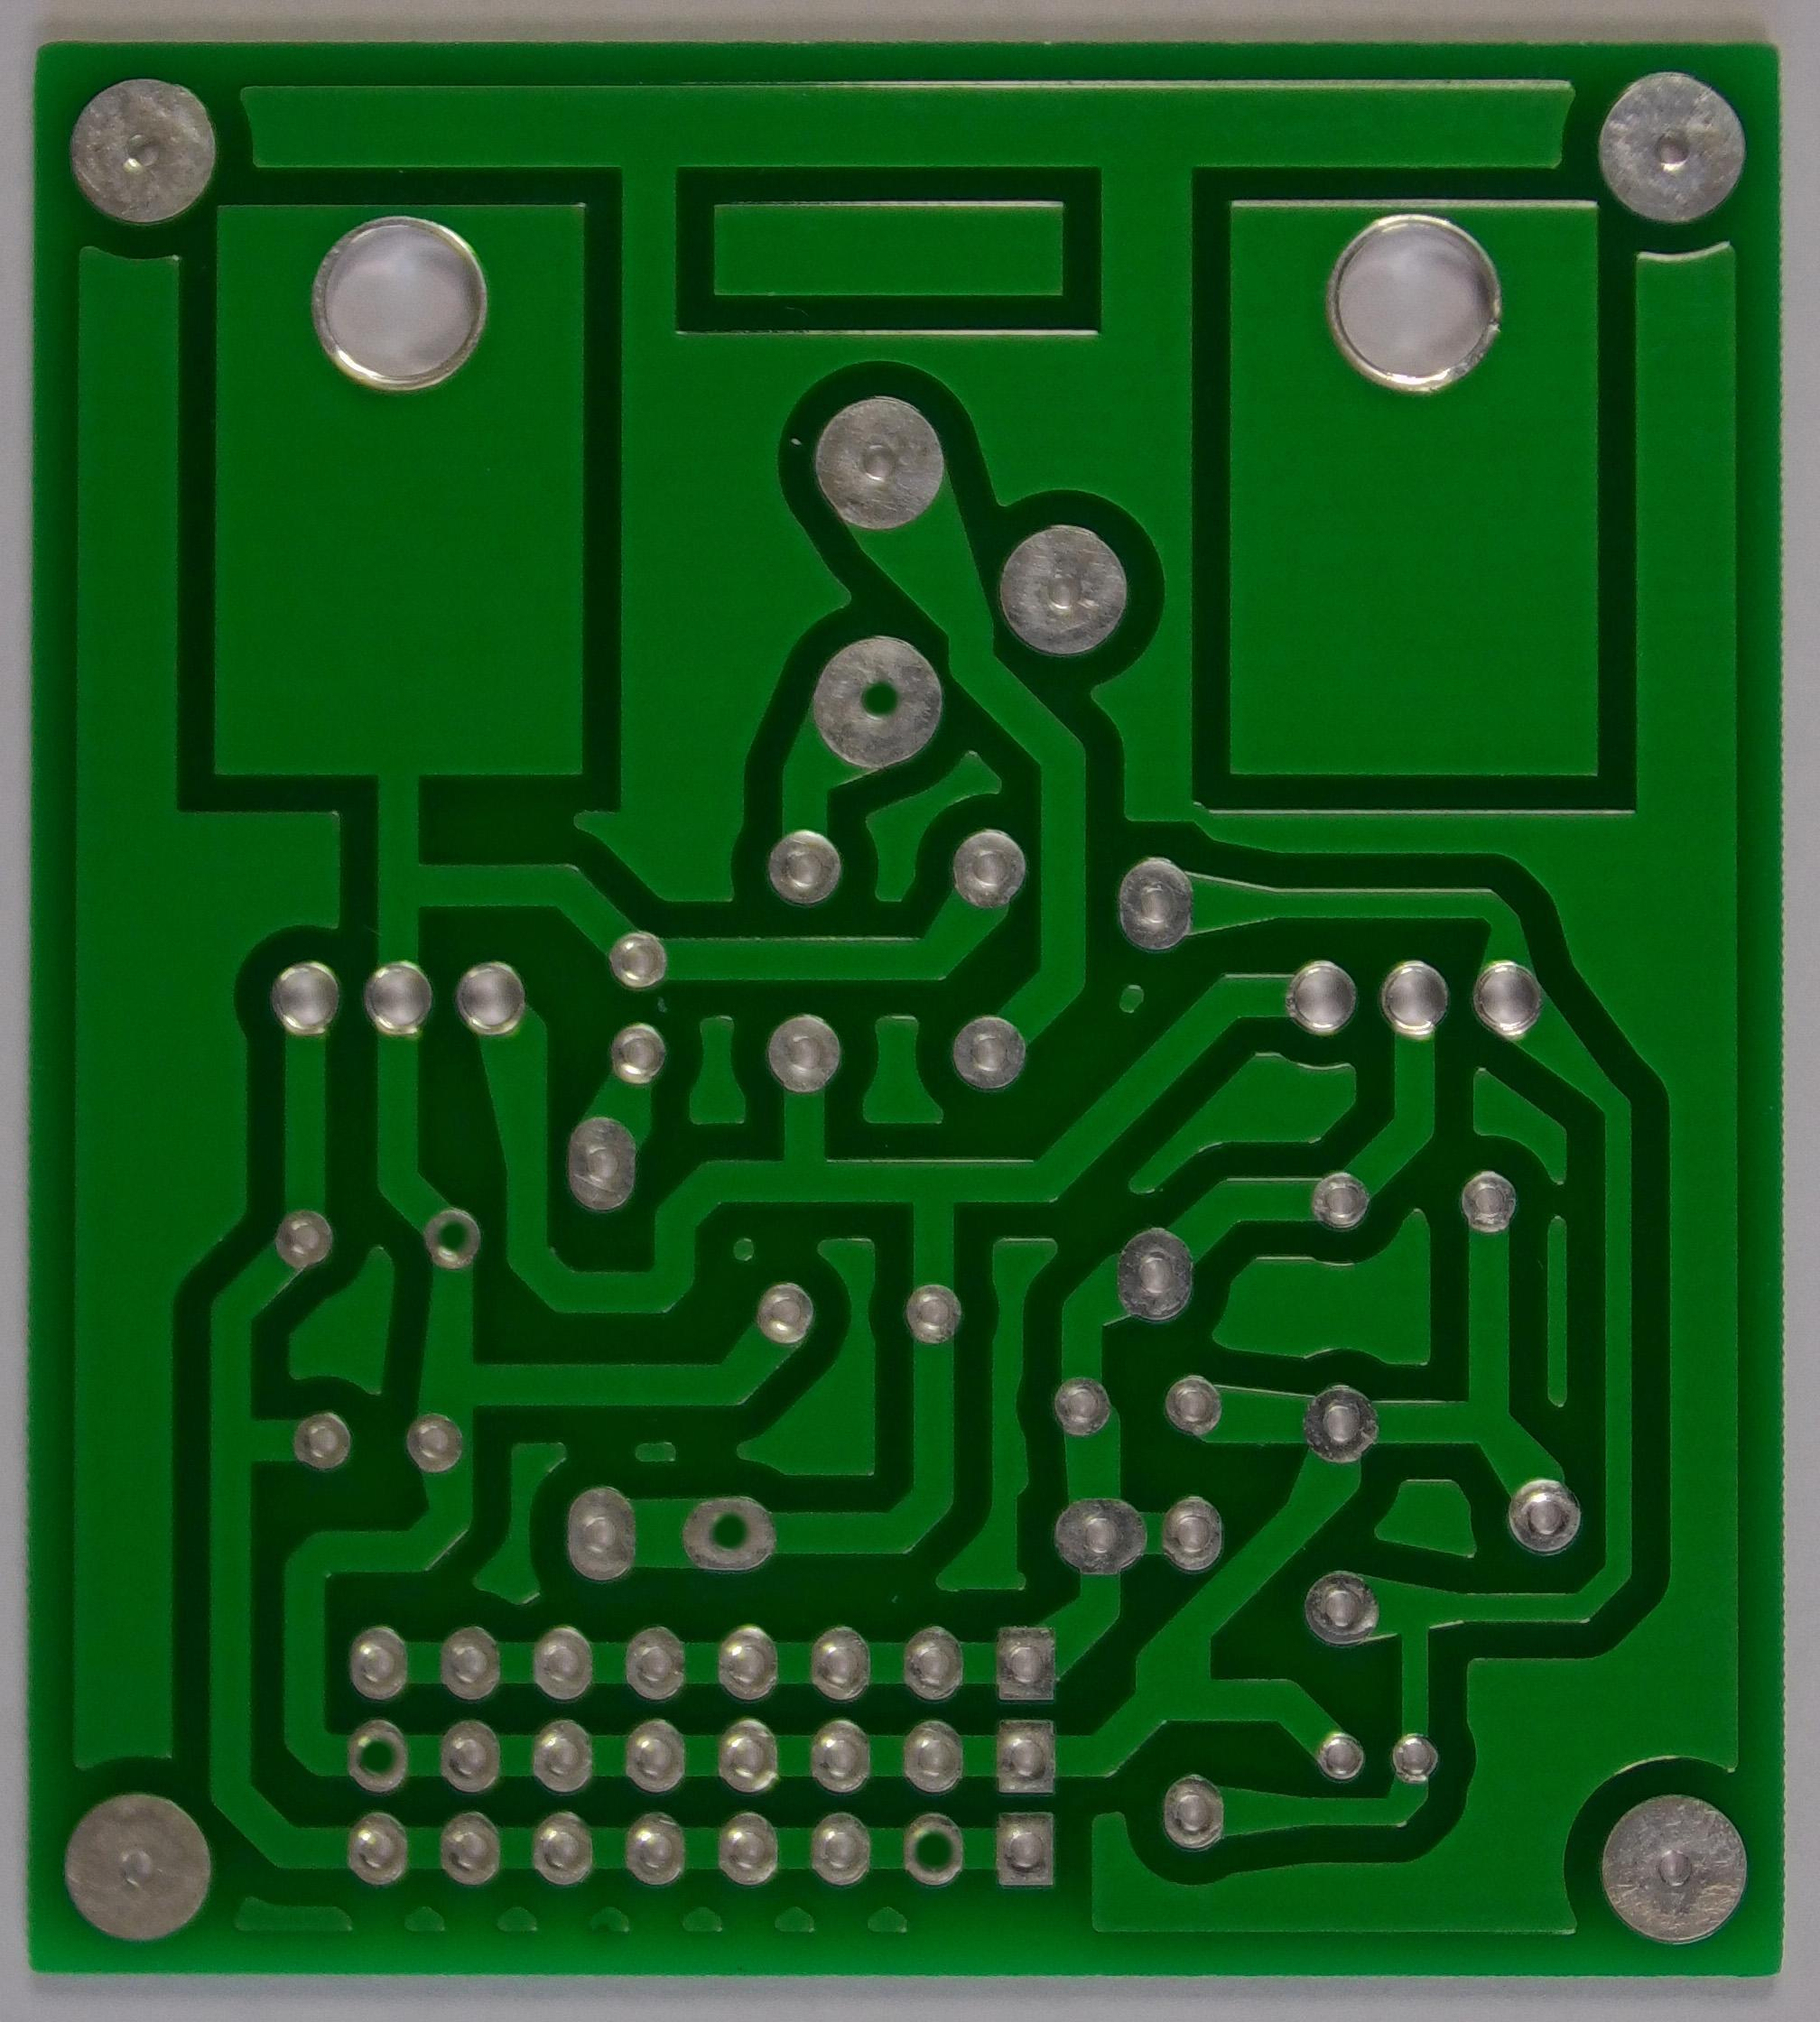missing_hole: (810, 625, 935, 785), (687, 1490, 773, 1590), (892, 1811, 964, 1899), (420, 1198, 492, 1277), (348, 1730, 411, 1795)
